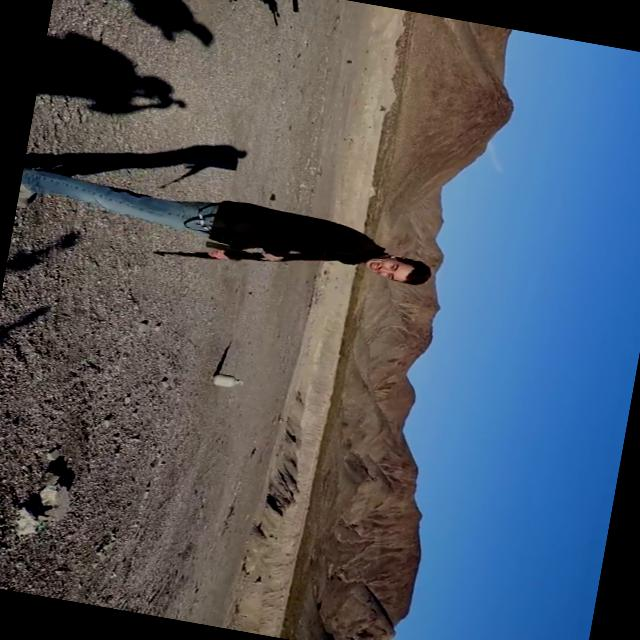long weapon: (149, 215, 340, 297)
